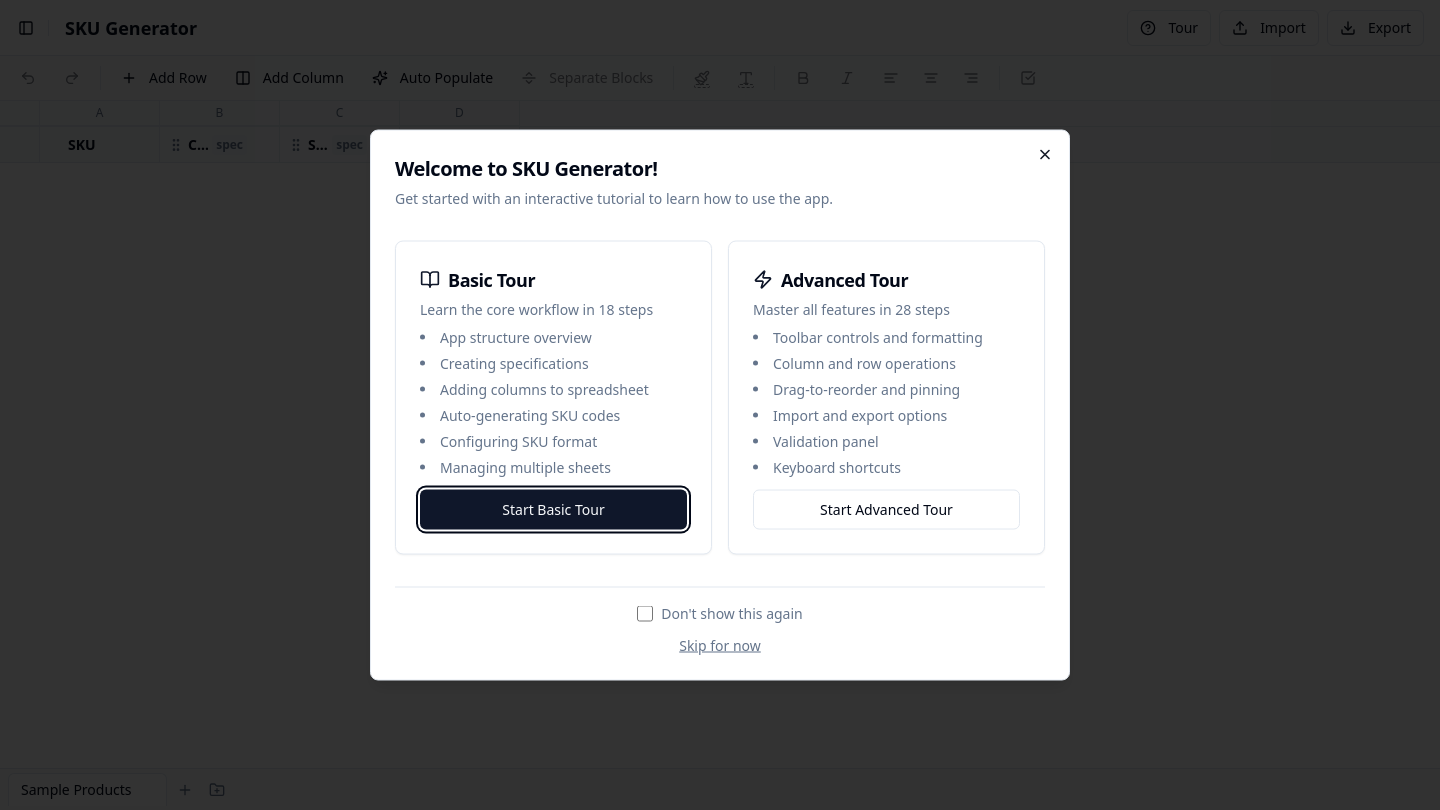
Test: App › starts basic tour when user clicks Start Basic Tour
Click Start Basic Tour
Click the button with test id "start-basic-tour".
click(554, 510)  # box [420,490,687,530]
Wait 100 ms
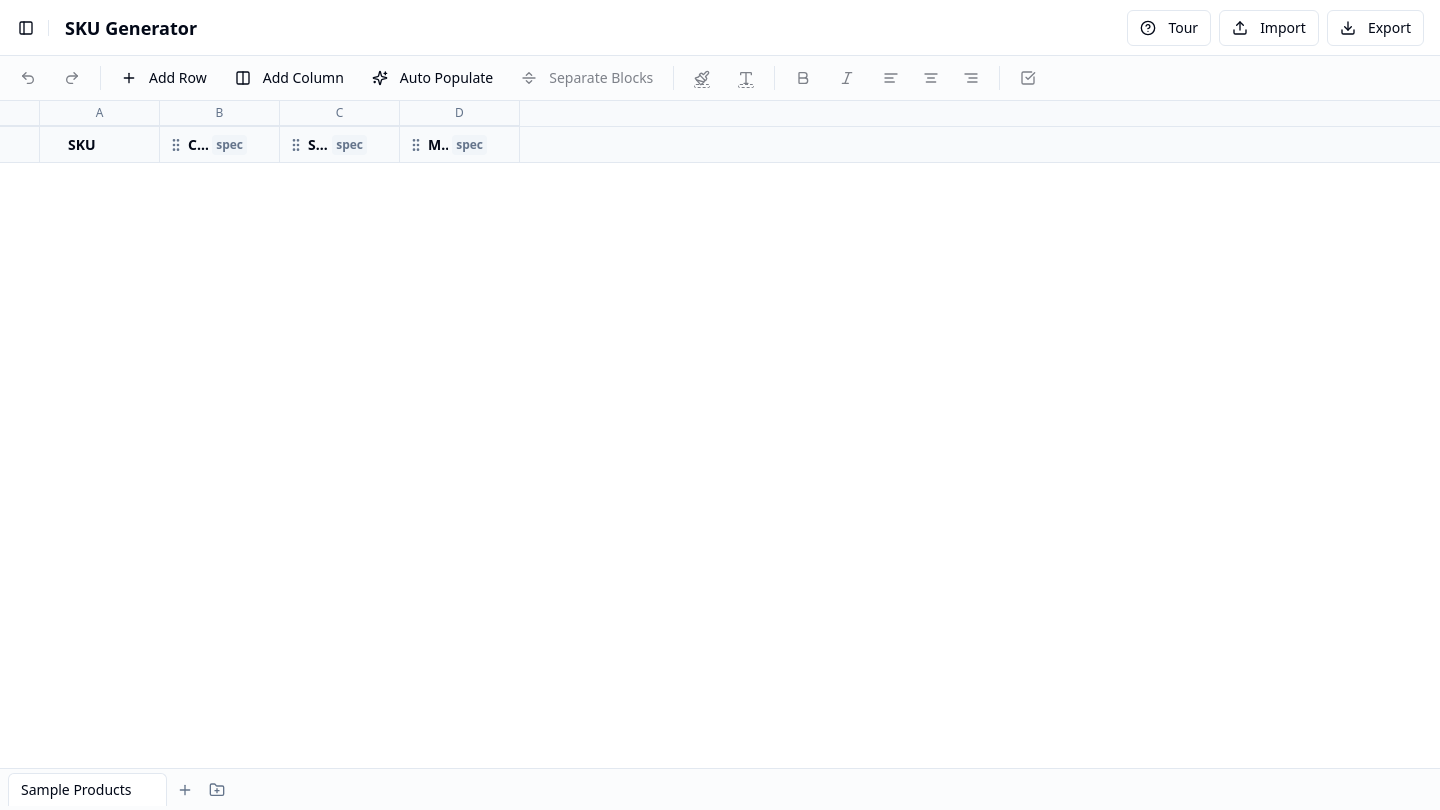
expect the dialog with test id "tour-selection-modal" is gone: met
